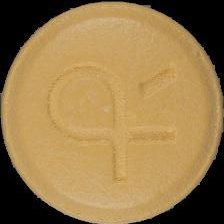45865-364: (0, 0, 224, 224)
